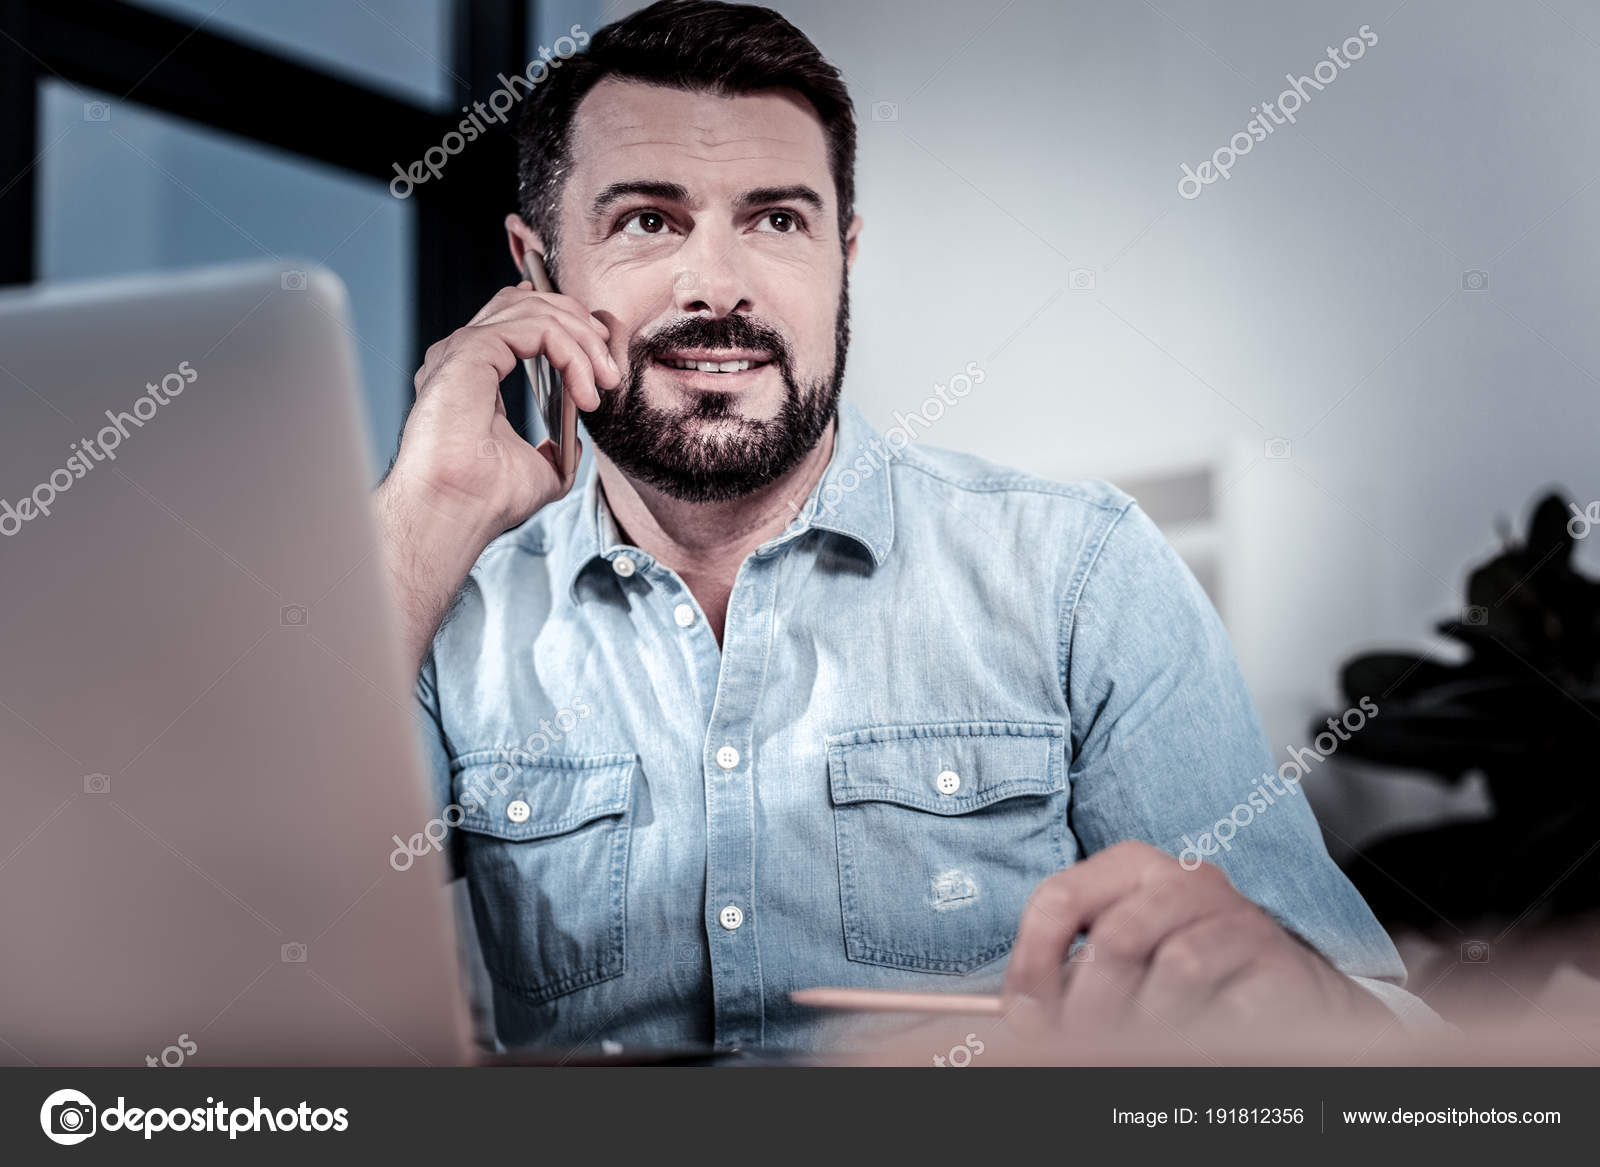phone: (514, 244, 580, 487)
talk: (395, 176, 845, 570)
